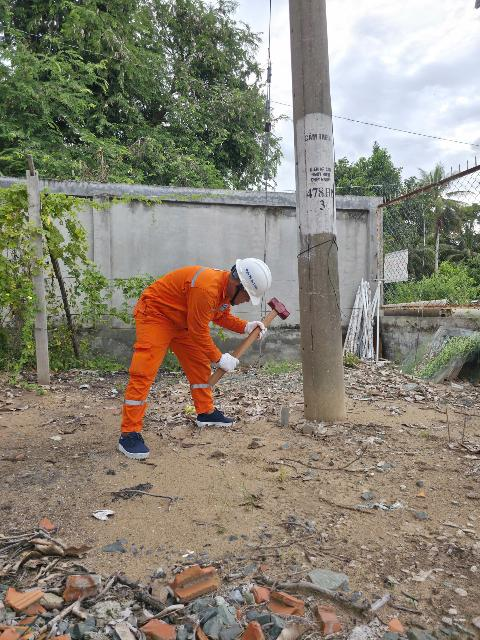gloves: (213, 348, 240, 375), (238, 318, 272, 338)
helmet: (230, 251, 281, 305)
shoes: (108, 426, 156, 464), (194, 406, 242, 434)
